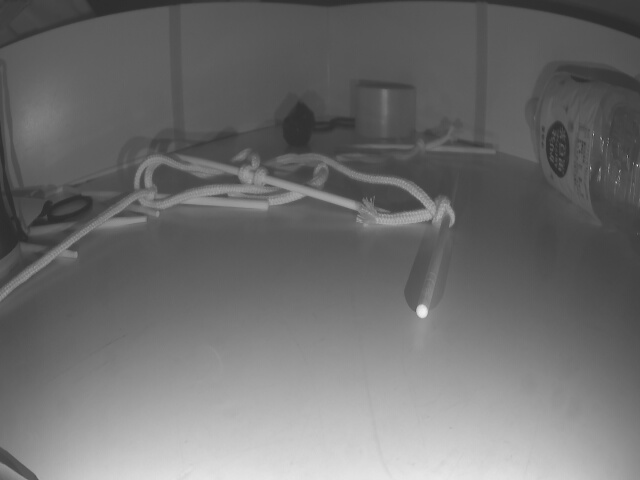Dead: (283, 104, 313, 145)
